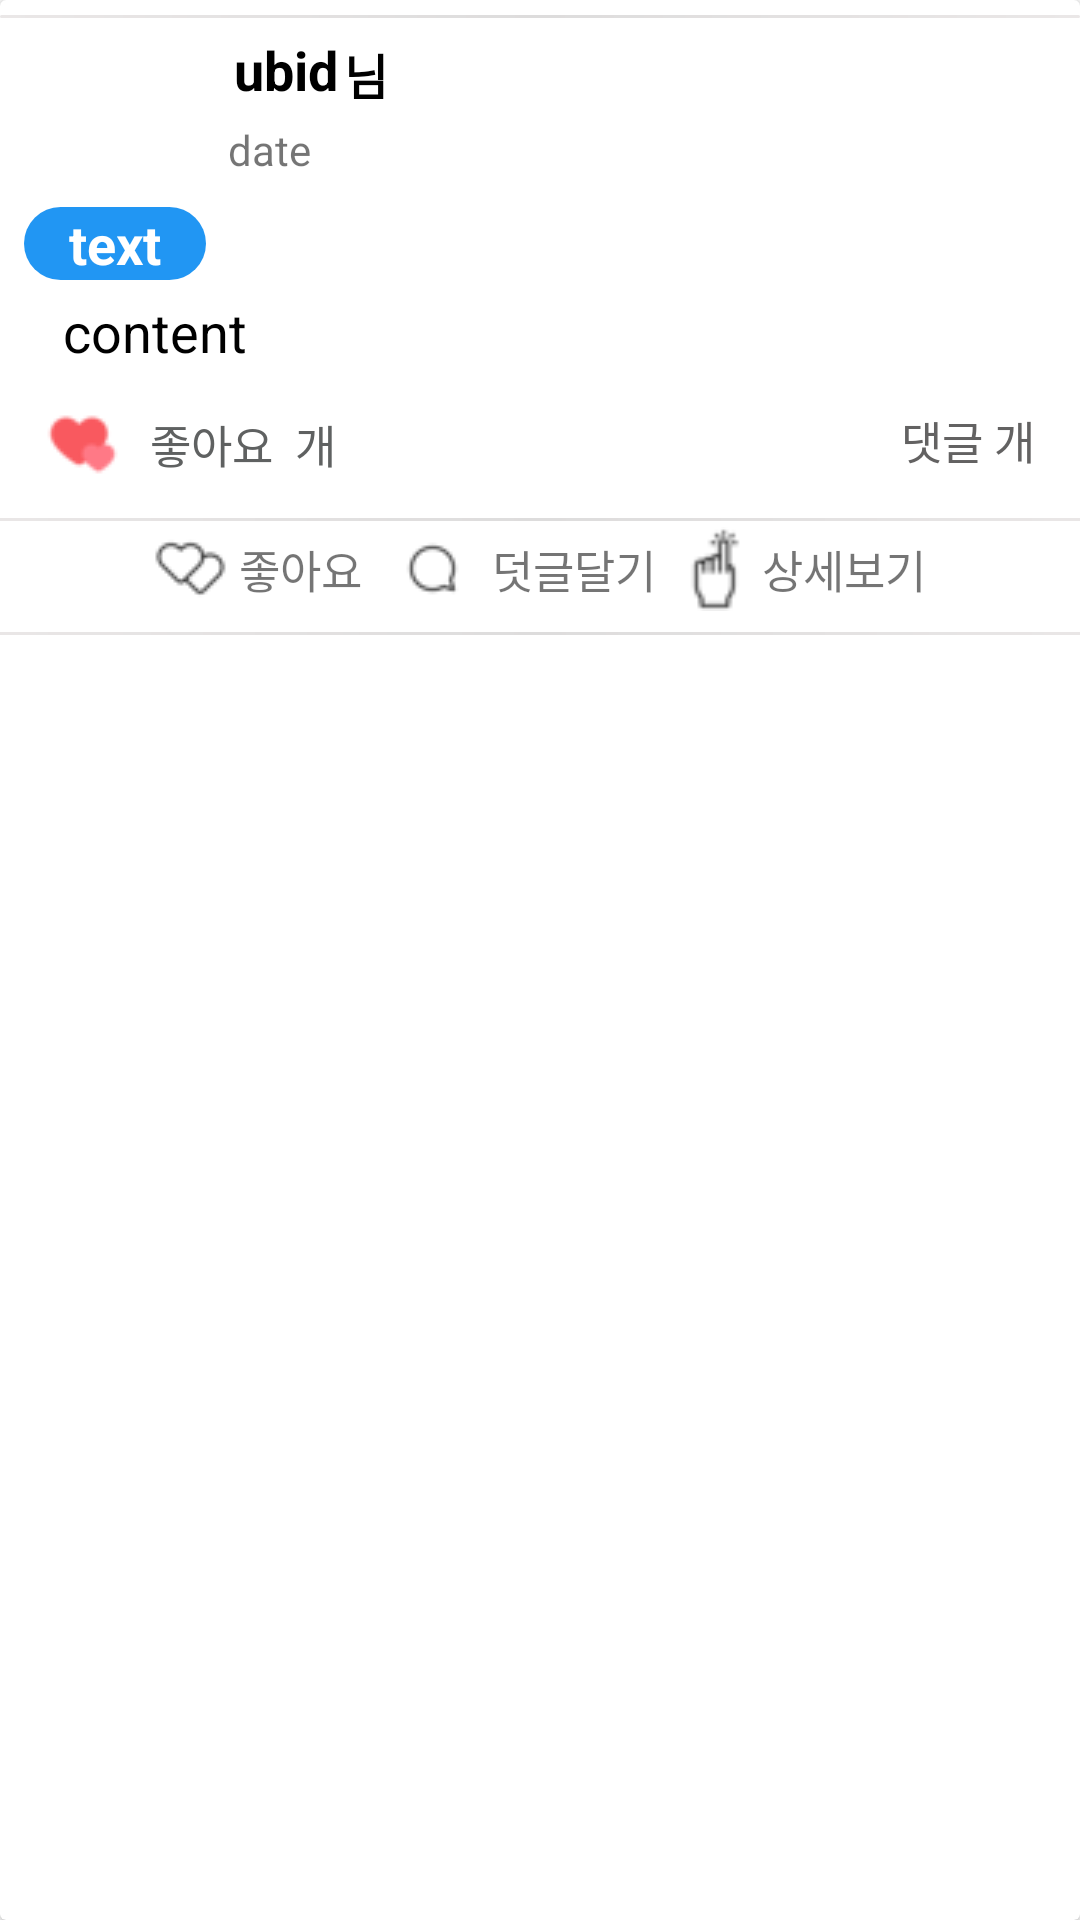

Where to tap for icons on this 1080w x 1920h app screen, as (x,y):
click: (716,569)
heart: (82,444), (190,568)
message: (432,569)
